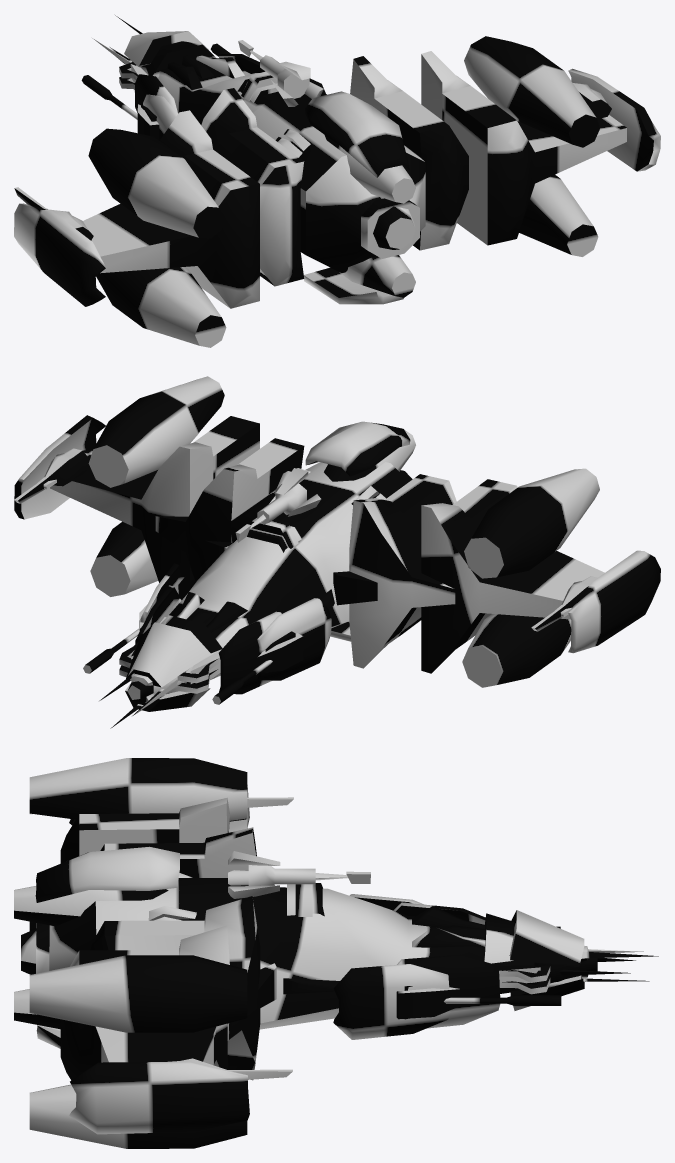
Rendered from vengeance_lightning.obj.
3 renders of one model, top to bottom at view 1: azimuth 30°, elevation 25°; view 2: azimuth 150°, elevation 25°; view 3: azimuth 270°, elevation 25°, orthographic. The views are drawn at different scales.
Parts seen in each view (by area): view 1: main; view 2: main; view 3: main.
Boxes of the visible parts, box(x1,y1,x2,y2) form: main: box(14, 15, 660, 347); main: box(14, 376, 660, 728); main: box(14, 758, 658, 1148).
Bounding box in the file's own units: 139 × 44.1 × 126.
Materials: 1 (1 with a texture image).
